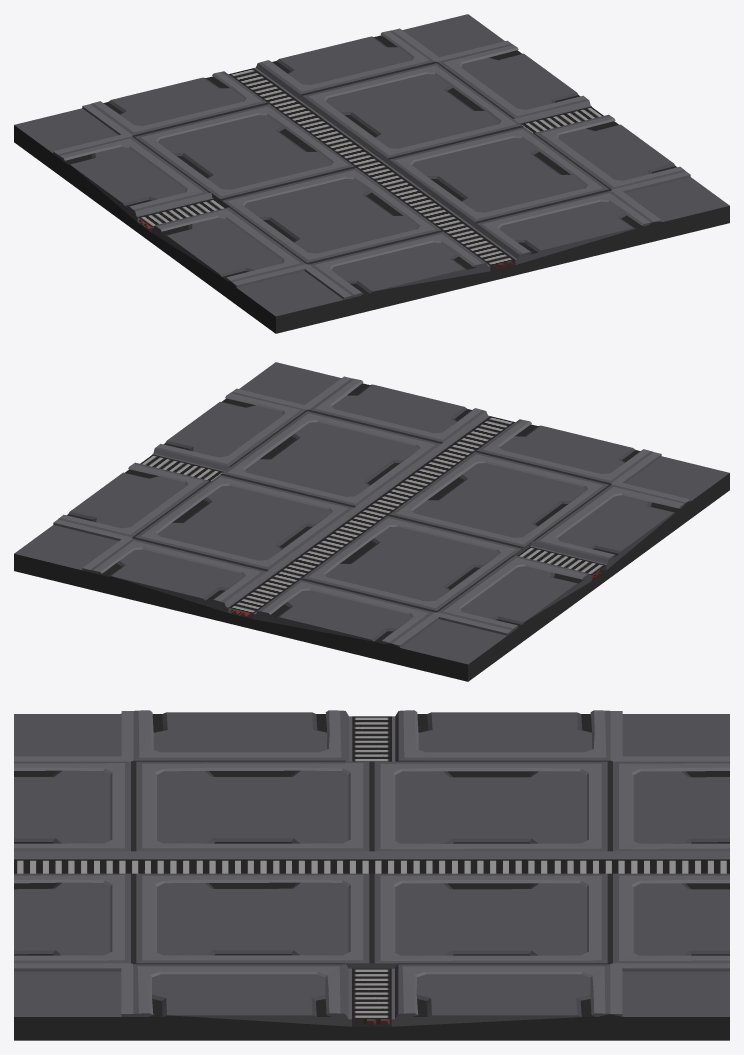
Rendered from SM_Bld_Floor_05.fbx.
The picture shows the model from 3 angles, top to bottom: view 1: azimuth 30°, elevation 25°; view 2: azimuth 150°, elevation 25°; view 3: azimuth 270°, elevation 25°; orthographic projection. The views are drawn at different scales.
Parts seen in each view (by area): view 1: SM_Bld_Floor_05_LOD0; view 2: SM_Bld_Floor_05_LOD0; view 3: SM_Bld_Floor_05_LOD0.
Boxes of the visible parts, x1,y1,x2,y2 form: SM_Bld_Floor_05_LOD0: (14, 14, 729, 333); SM_Bld_Floor_05_LOD0: (14, 362, 729, 681); SM_Bld_Floor_05_LOD0: (14, 710, 729, 1040).
Bounding box in the file's own units: 500 × 501 × 21.2.
Materials: 1 (1 with a texture image).
